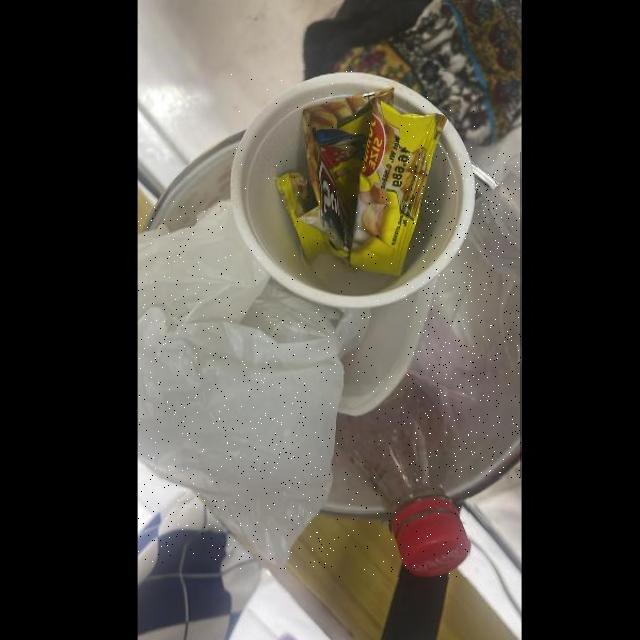plastic: (139, 199, 372, 569), (232, 70, 477, 311), (408, 152, 521, 478), (336, 374, 469, 577)
wrapper: (279, 90, 448, 275)
